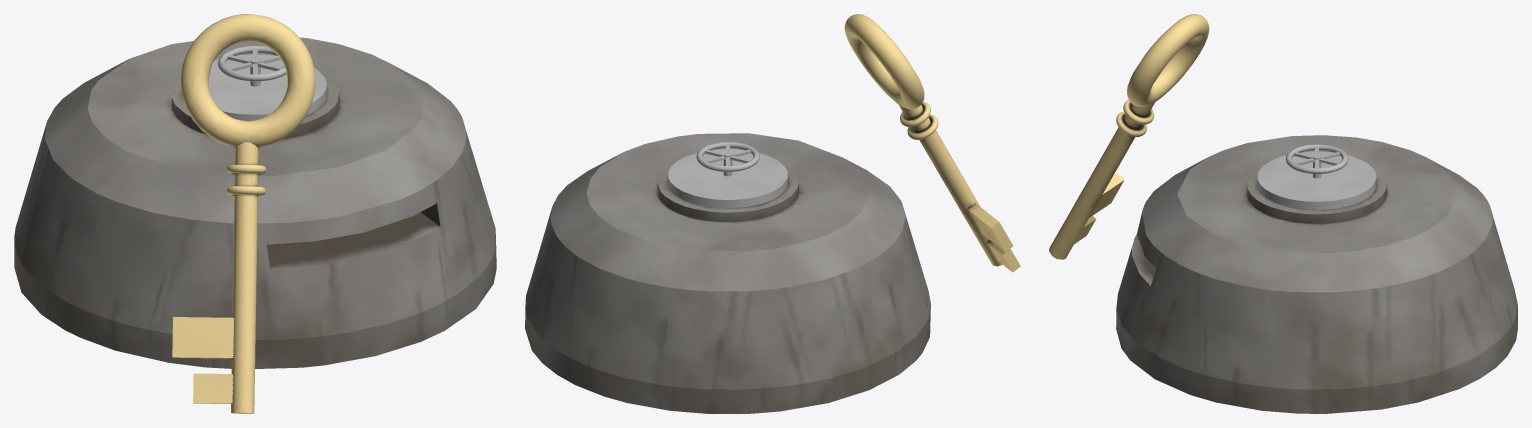
File: bunker.glb
3 views of the same model, side by side, from view 1: azimuth 30°, elevation 25°; view 2: azimuth 150°, elevation 25°; view 3: azimuth 270°, elevation 25° (orthographic). The views are drawn at different scales.
Visible parts, largest first — view 1: bunker; view 2: bunker; view 3: bunker.
Boxes of the visible parts, x1,y1,x2,y2 form: bunker: [14, 14, 496, 413]; bunker: [525, 14, 1020, 413]; bunker: [1049, 14, 1517, 413].
Bounding box in the file's own units: 2.71 × 2.04 × 3.15.
3 materials, 3 textured.
